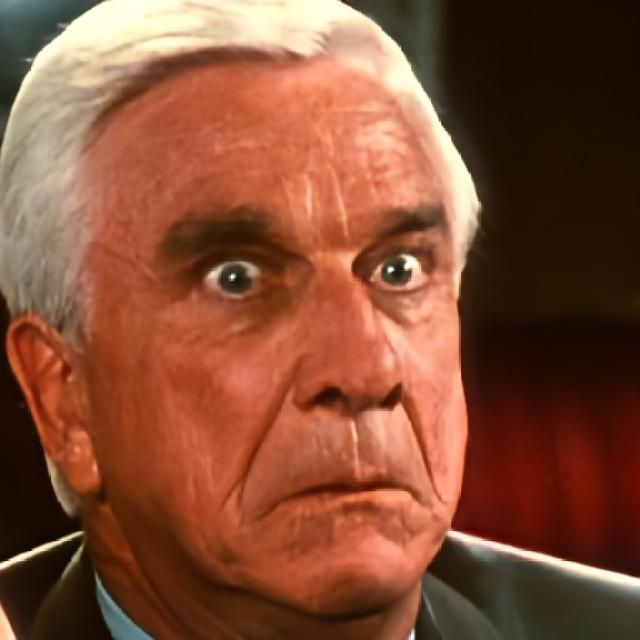Fear: (100, 54, 470, 622)
